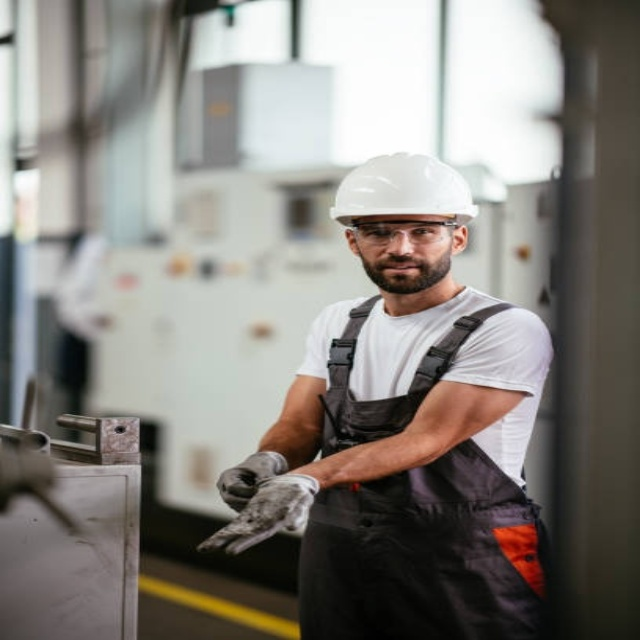Gafas: (352, 223, 458, 246)
Guantes: (191, 471, 326, 555), (216, 450, 289, 512)
Sin_mascara: (369, 256, 425, 282)
